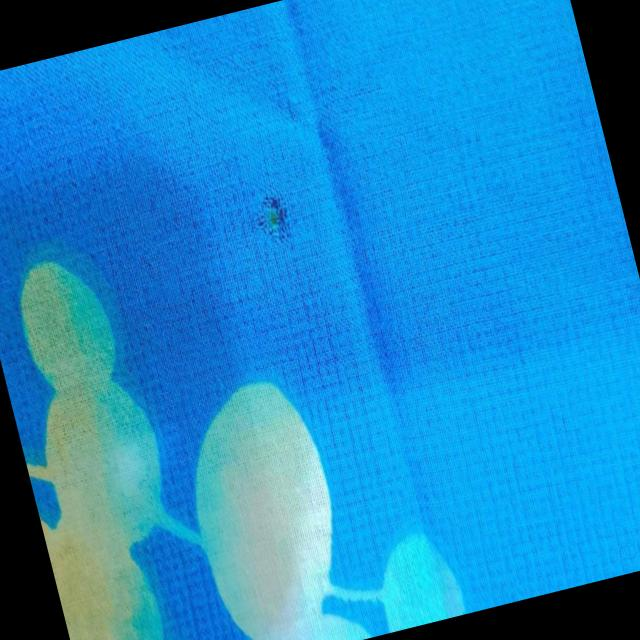cut: (244, 178, 300, 255)
